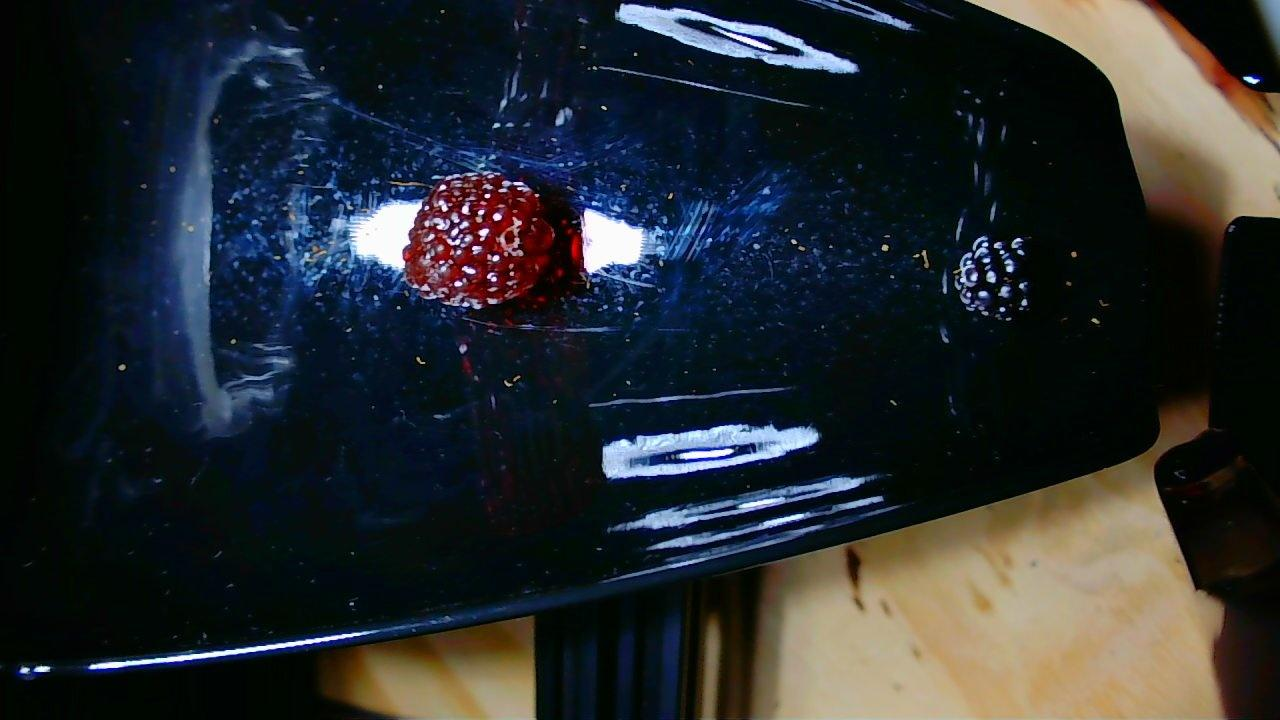berry: (402, 172, 555, 308), (953, 236, 1029, 320)
